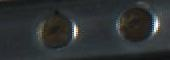joints: (113, 1, 159, 44), (31, 10, 80, 50)
